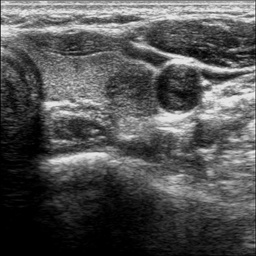mass: (156, 59, 203, 116)
